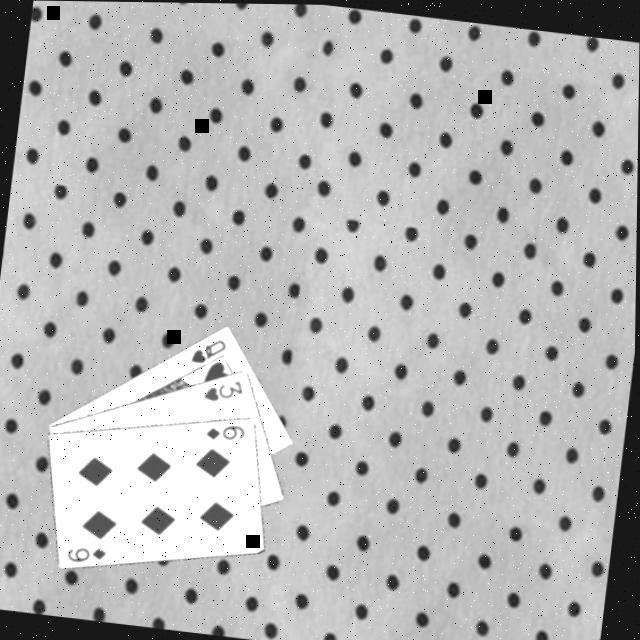3H: (202, 373, 250, 407)
6D: (204, 418, 250, 446), (66, 540, 111, 568)
QH: (188, 332, 231, 369)
